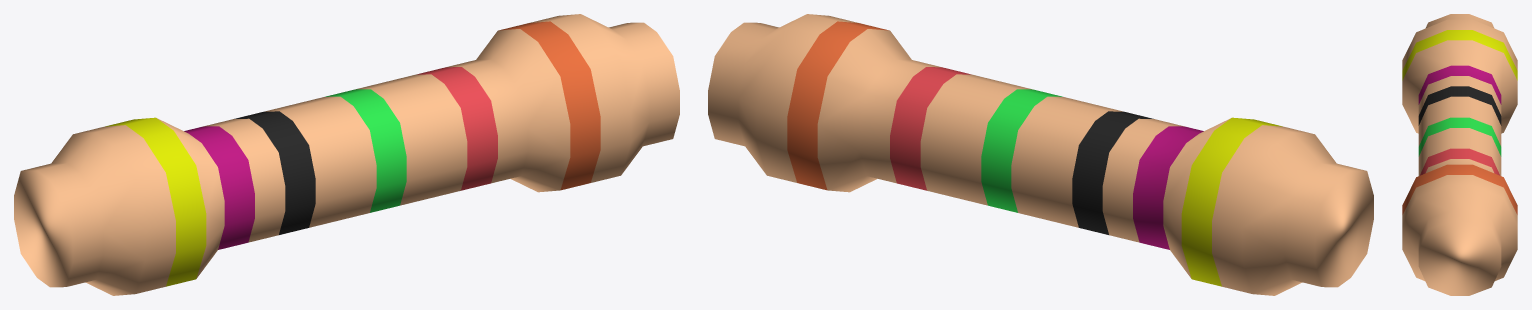
The model's file is resistor2.fbx.
3 views of the same model, side by side, from view 1: azimuth 30°, elevation 25°; view 2: azimuth 150°, elevation 25°; view 3: azimuth 270°, elevation 25° (orthographic). The views are drawn at different scales.
Parts seen in each view (by area): view 1: Cube; view 2: Cube; view 3: Cube.
Boxes of the visible parts, x1,y1,x2,y2 form: Cube: [14, 14, 679, 295]; Cube: [708, 14, 1373, 295]; Cube: [1402, 14, 1517, 295].
Bounding box in the file's own units: 71.11 × 16.84 × 16.78.
